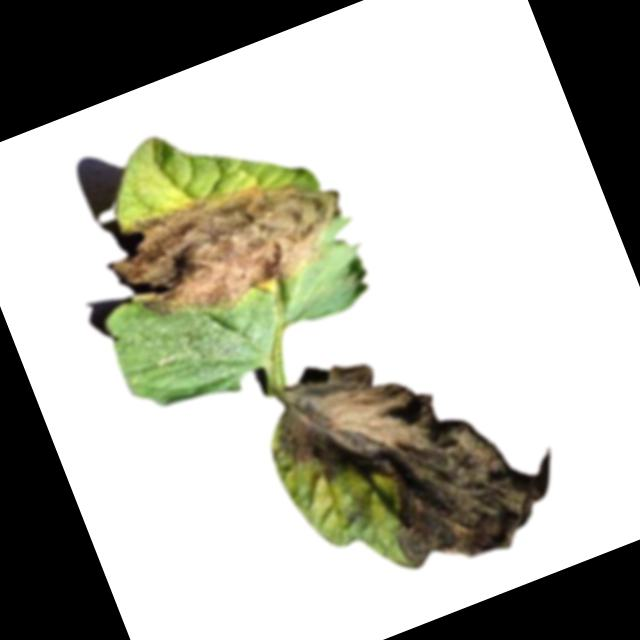Late_blight: (256, 296, 577, 609), (94, 146, 364, 348)
